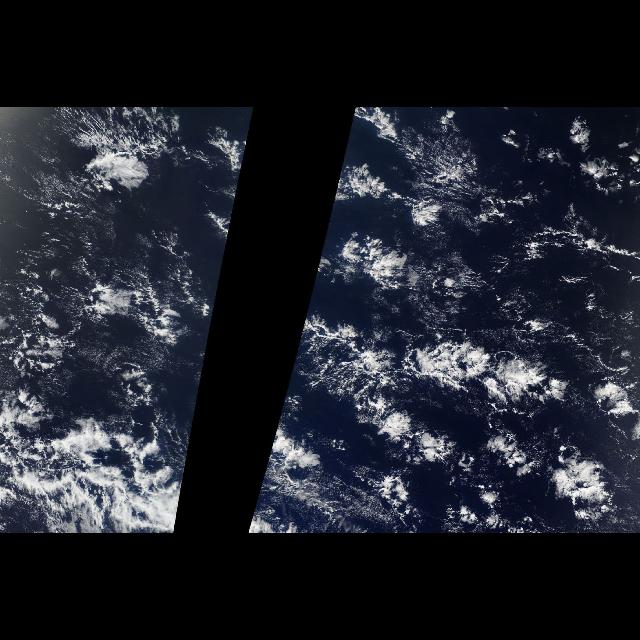Flower: (343, 159, 627, 525)
